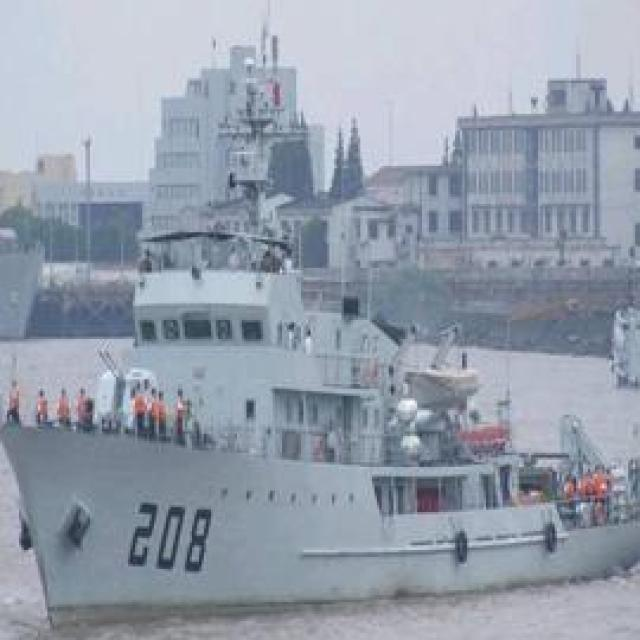passenger ship: (0, 180, 640, 619), (609, 230, 640, 382)
